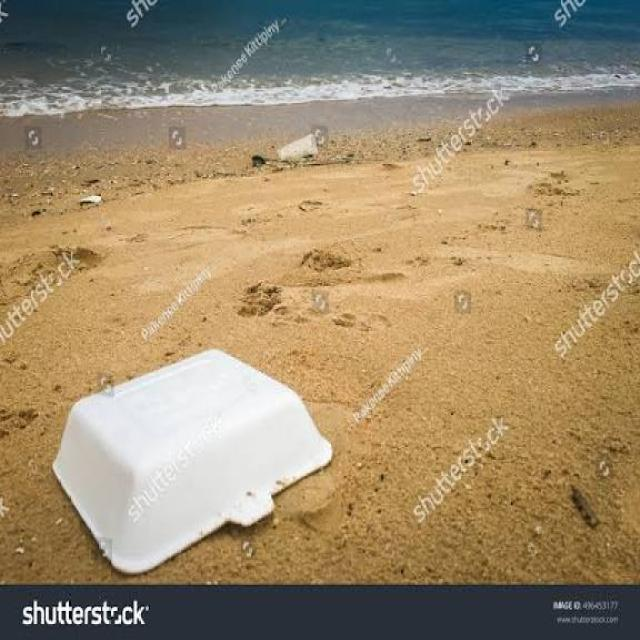styrofoam: (45, 366, 376, 576)
